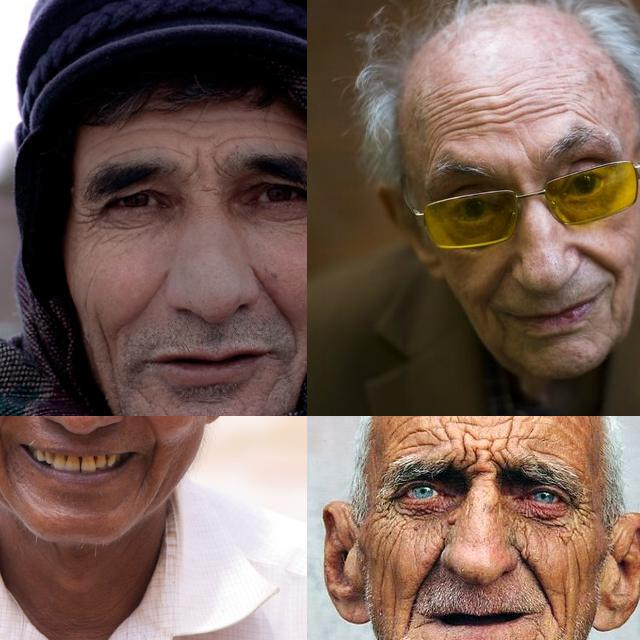bunny_line: (512, 521, 534, 555), (438, 521, 452, 545)
chin: (577, 328, 601, 349), (518, 630, 542, 640)
crows_feet: (75, 198, 108, 238), (377, 494, 398, 524), (574, 497, 592, 527)
forehead: (420, 87, 478, 137), (534, 85, 596, 125), (486, 88, 528, 134), (257, 108, 307, 143), (180, 107, 247, 131), (108, 136, 166, 158), (393, 416, 431, 449), (502, 416, 544, 442), (238, 128, 292, 148), (438, 416, 472, 437)
frown_line: (188, 142, 222, 184), (459, 448, 503, 470), (515, 138, 537, 172)
gummy_smile: (258, 279, 294, 327), (132, 277, 166, 327), (577, 245, 635, 273), (408, 552, 434, 612), (134, 442, 160, 498), (522, 560, 556, 600), (0, 442, 20, 481), (484, 267, 506, 301), (0, 416, 23, 441), (119, 416, 155, 426)
masseter: (90, 320, 124, 388), (376, 539, 394, 601), (560, 592, 573, 640)
sad_smile: (486, 310, 512, 352), (602, 287, 620, 319)
